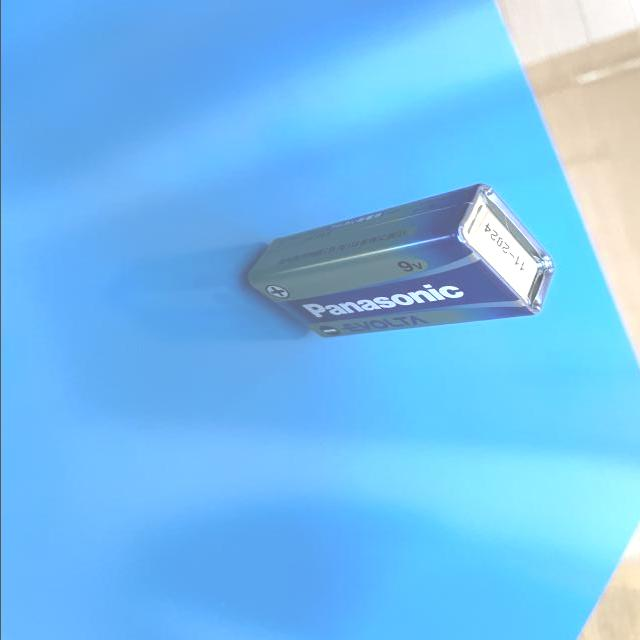9V: (246, 184, 556, 337)
